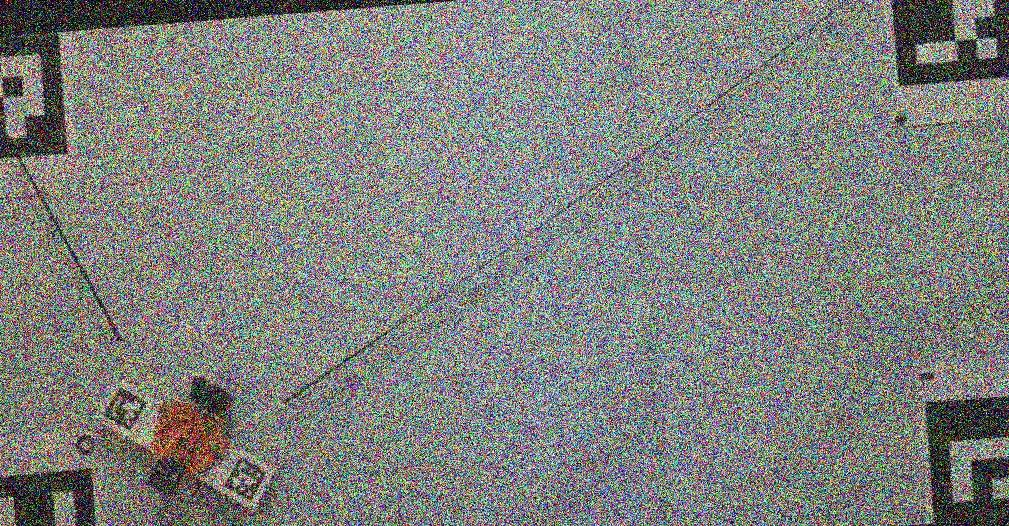robot: (147, 379, 232, 497)
